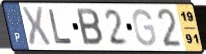2: (156, 7, 184, 49), (103, 8, 130, 47)
B: (75, 7, 105, 48)
G: (131, 7, 158, 48)
L: (47, 8, 75, 46)
X: (19, 5, 53, 48)
